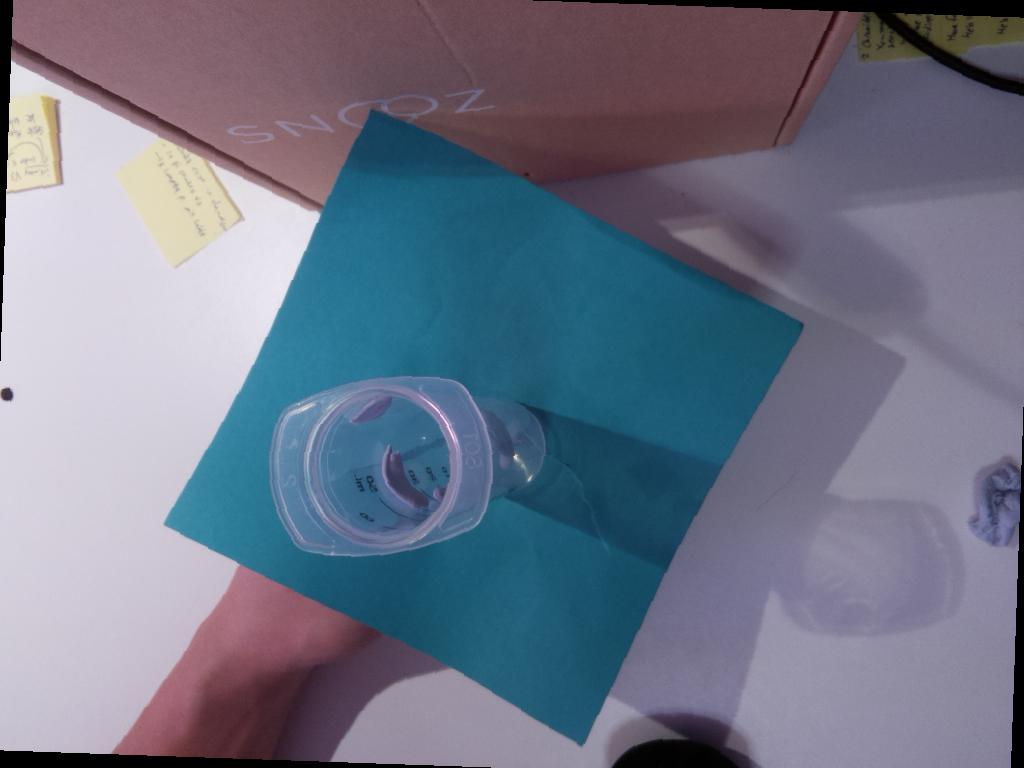dirty: (267, 374, 494, 559)
